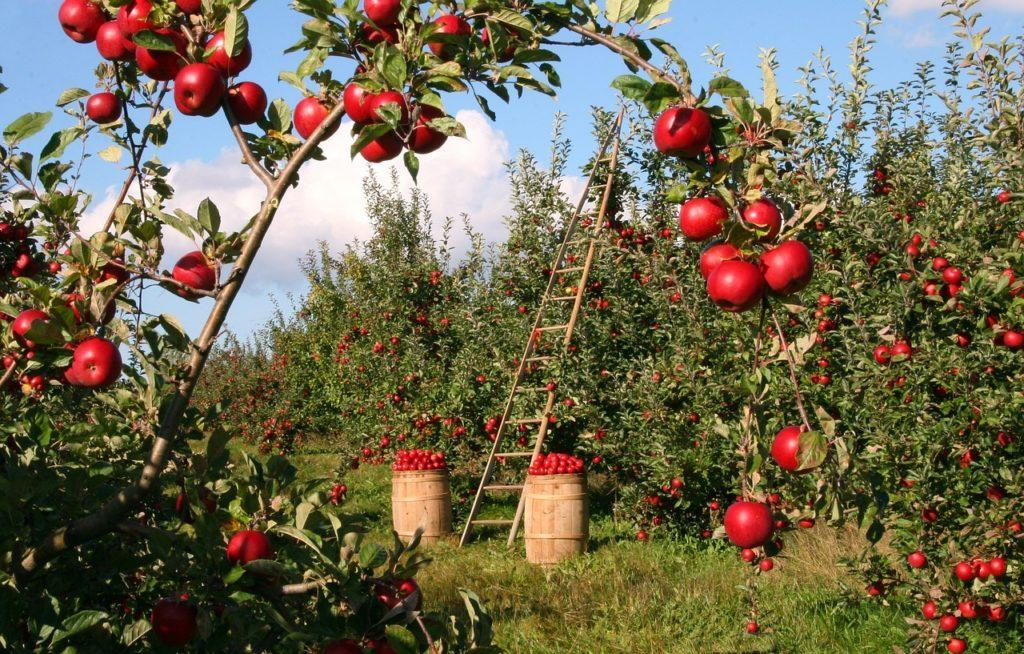apple: (757, 236, 815, 295), (708, 258, 764, 312), (174, 62, 227, 115), (654, 105, 711, 153), (66, 336, 119, 387), (130, 30, 186, 76), (678, 196, 733, 240), (725, 500, 775, 546), (407, 105, 448, 153), (172, 251, 218, 293), (57, 2, 104, 43), (428, 17, 472, 60), (357, 121, 402, 163), (225, 80, 267, 124), (225, 529, 274, 566), (343, 81, 387, 122), (11, 308, 49, 350), (293, 97, 328, 136), (96, 19, 130, 58), (772, 427, 801, 470), (86, 92, 123, 123), (363, 1, 400, 31)
